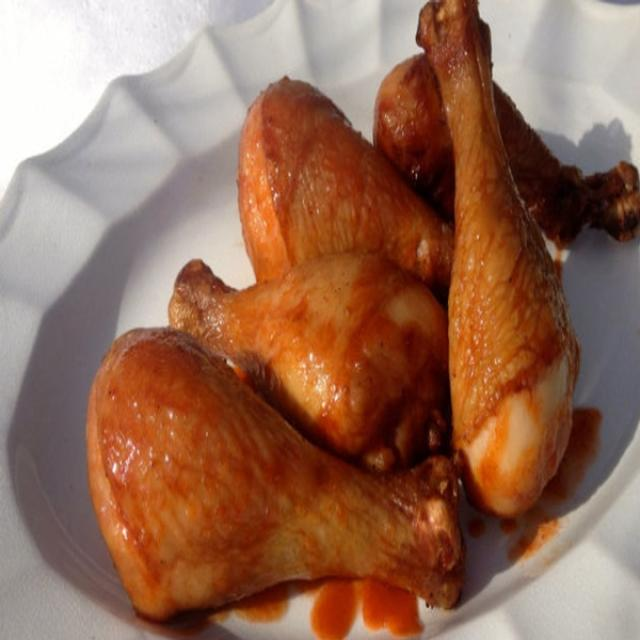CHICKEN FRY: (91, 0, 638, 620)
